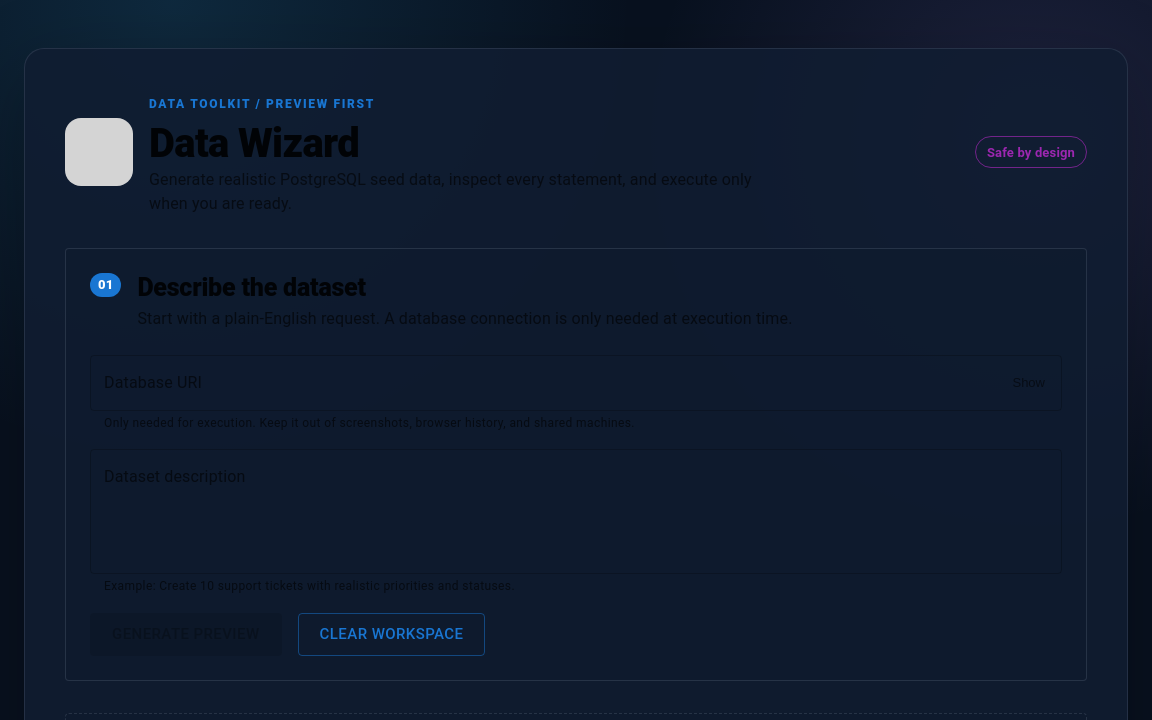
Test: DataRequest › masks the URI by default and allows an explicit reveal
The width and height of the screenshot is (1152, 720).
Type "postgres://user:secret@localhost/test" into the password field named "PostgreSQL connection URI".
click(544, 383); type("postgres://user:secret@localhost/test")  # box [90,355,998,411]
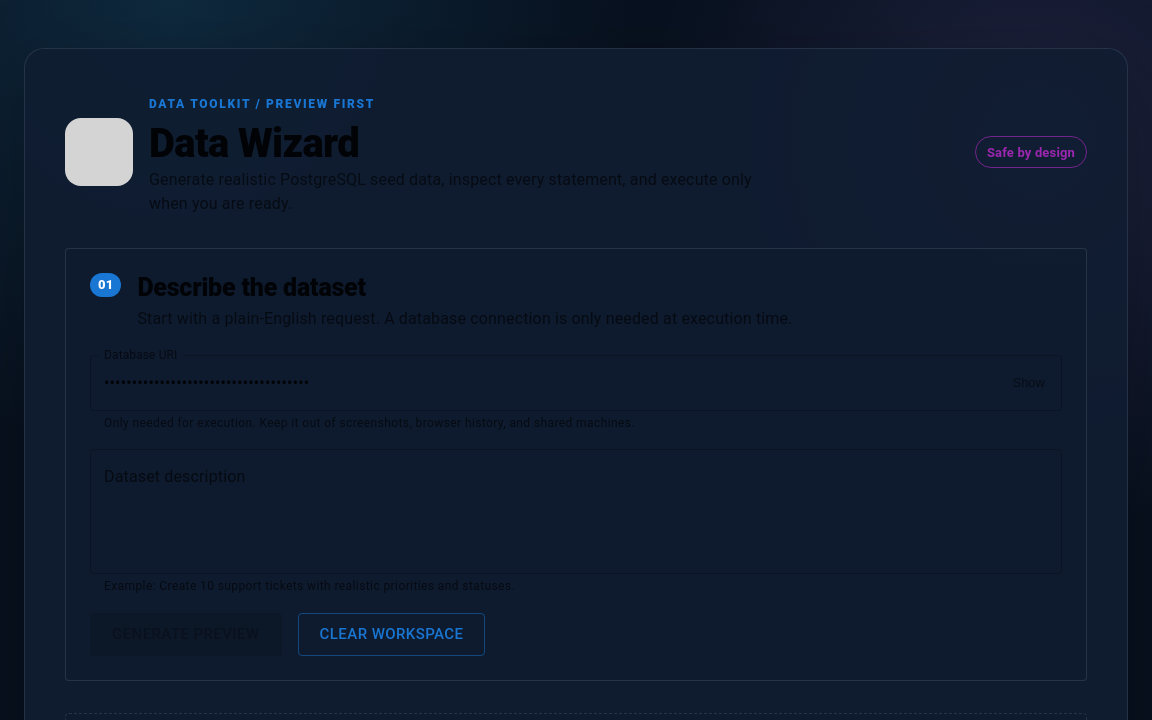
Click the button with aria-label "Show database URI".
click(1029, 383)  # box [1006,370,1051,395]
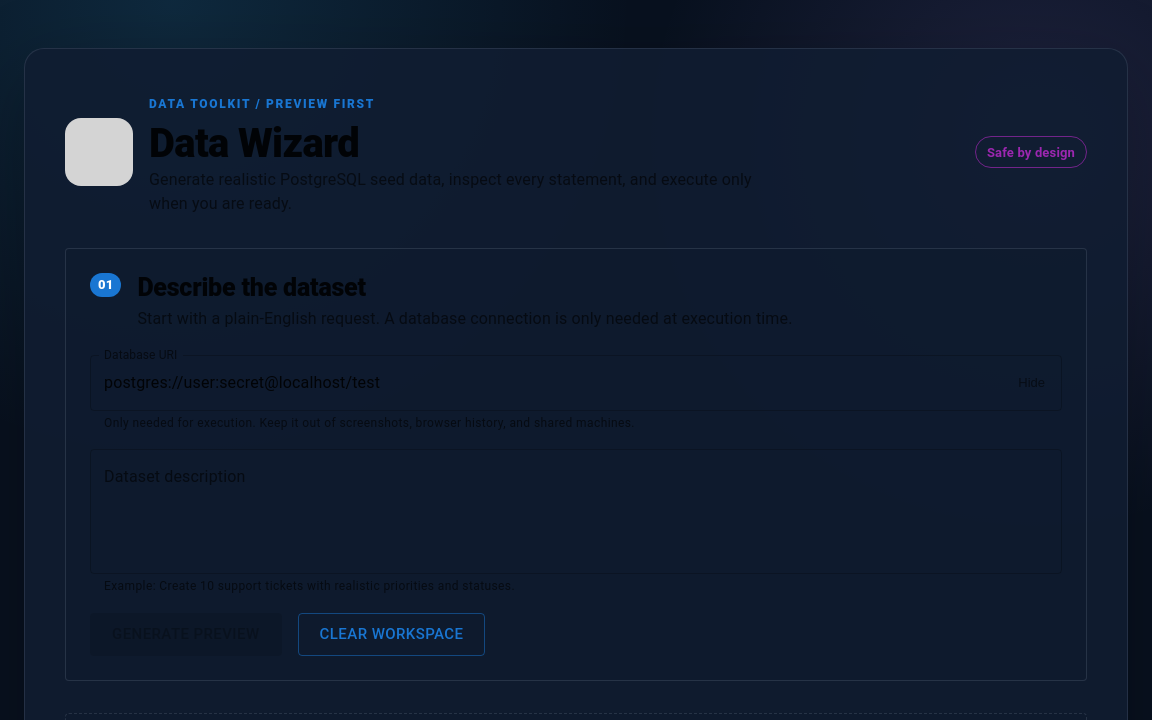
Check: the field named "PostgreSQL connection URI" shows its text, box [90,355,1004,411]
